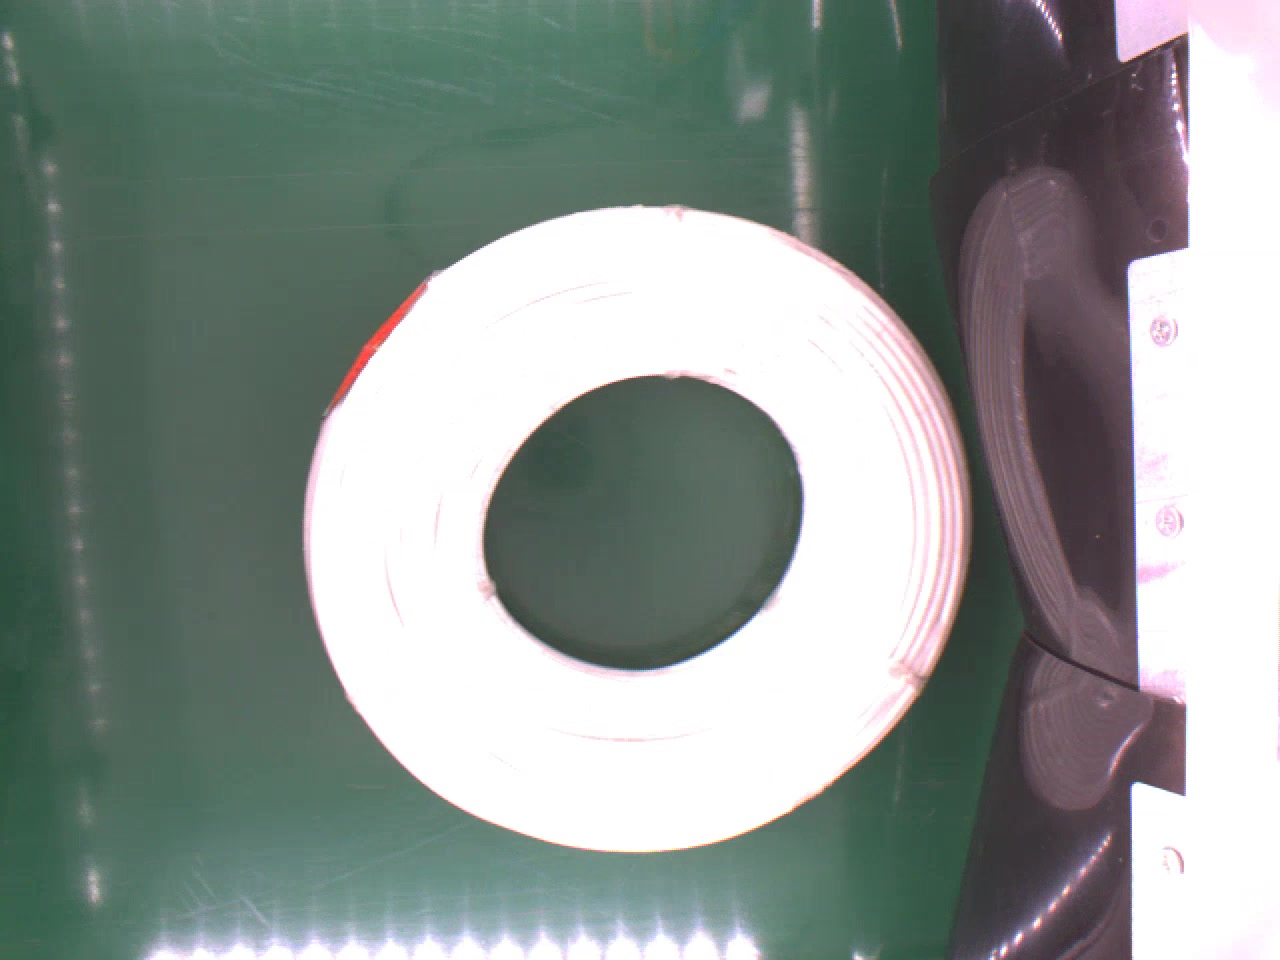white: (297, 199, 973, 862)
